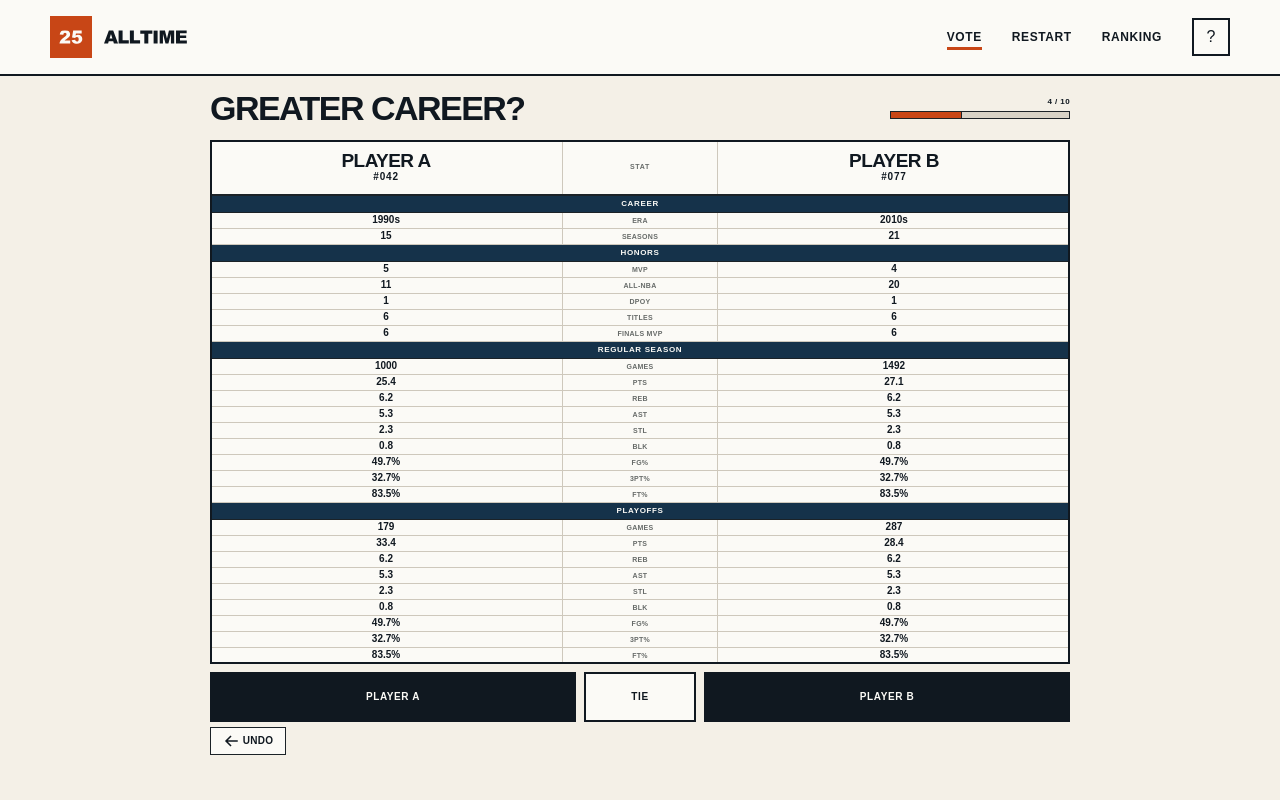
App dialogs › keeps identities hidden in a blind ranking preview
What coordinates should you click on to do the following:
click the button "Ranking"
I would click on:
 (1132, 37)
Its box is [1102,24,1162,50].
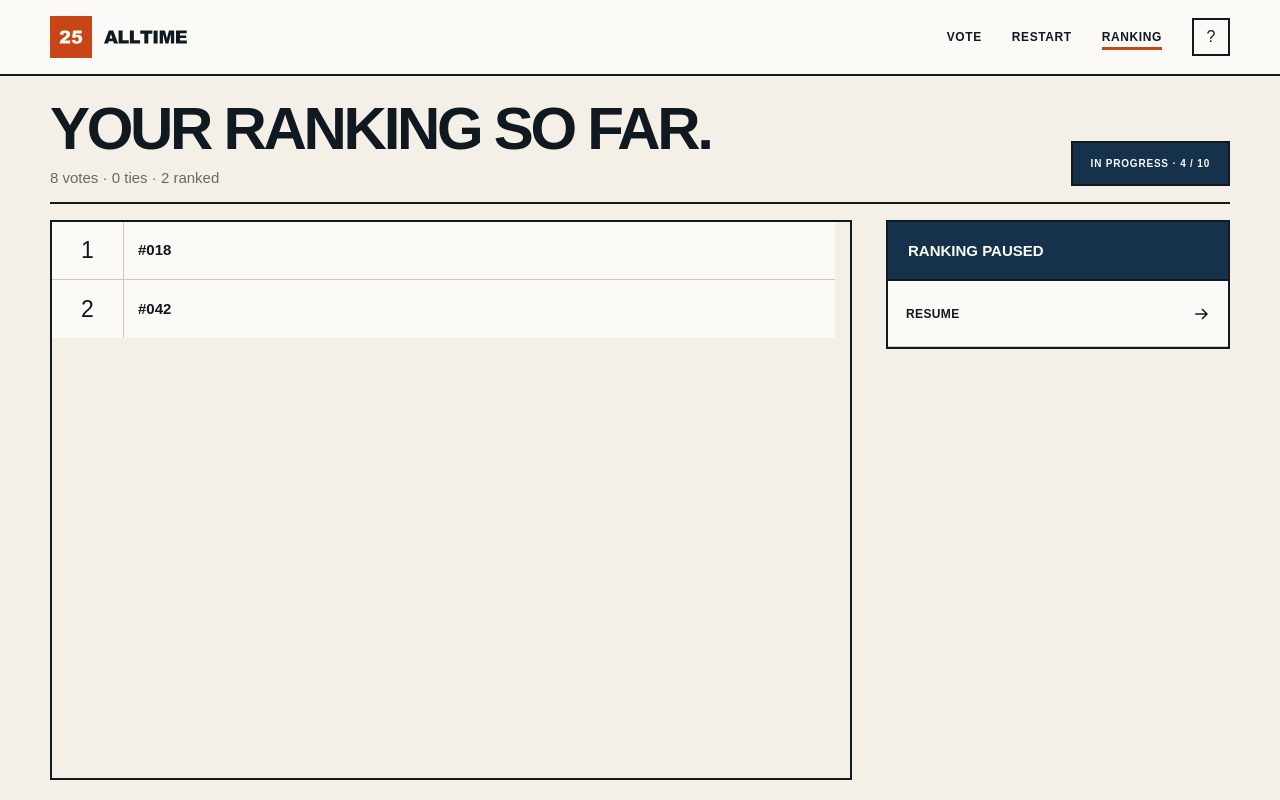
Result: the text "#018" is shown at [138,241,171,258]
